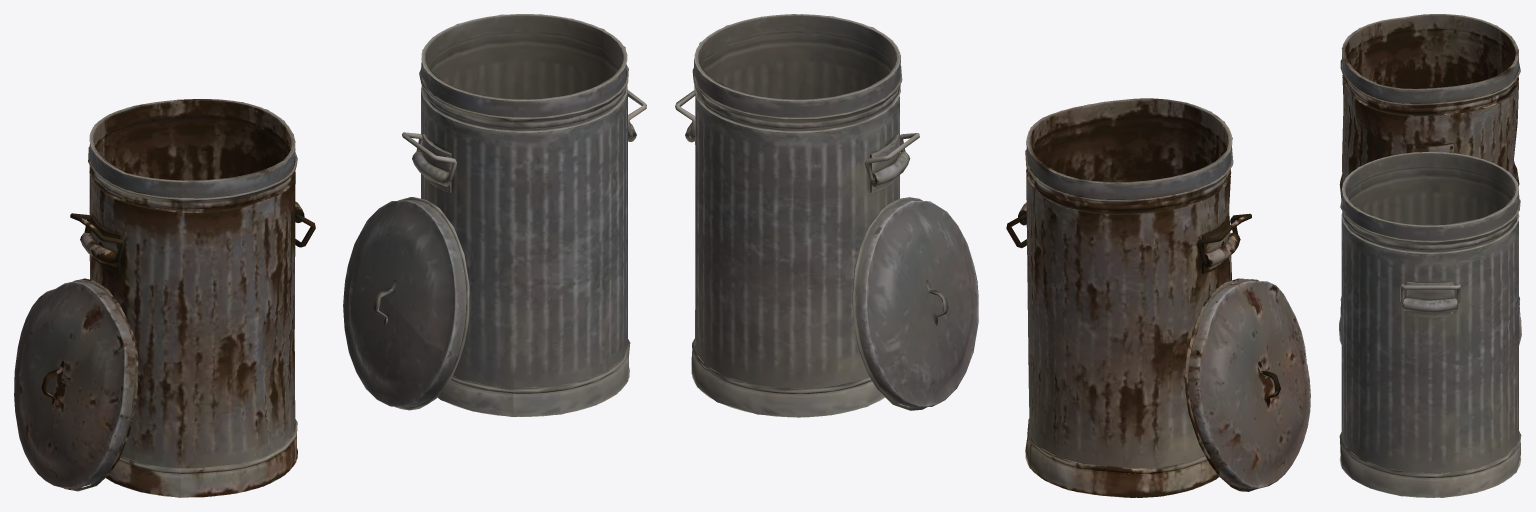
File: metal_trash_can.glb
The picture shows the model from 3 angles, left to right: view 1: azimuth 30°, elevation 25°; view 2: azimuth 150°, elevation 25°; view 3: azimuth 270°, elevation 25°; orthographic projection. The views are drawn at different scales.
Parts seen in each view (by area): view 1: metal_trash_can; view 2: metal_trash_can; view 3: metal_trash_can.
Part boxes in pixels (x1,y1,x2,y2): metal_trash_can: (14, 14, 646, 497); metal_trash_can: (675, 14, 1310, 497); metal_trash_can: (1339, 14, 1521, 497).
Size of the model in its own units: 1.78 by 0.9063 by 0.5555.
3 materials, 3 textured.
